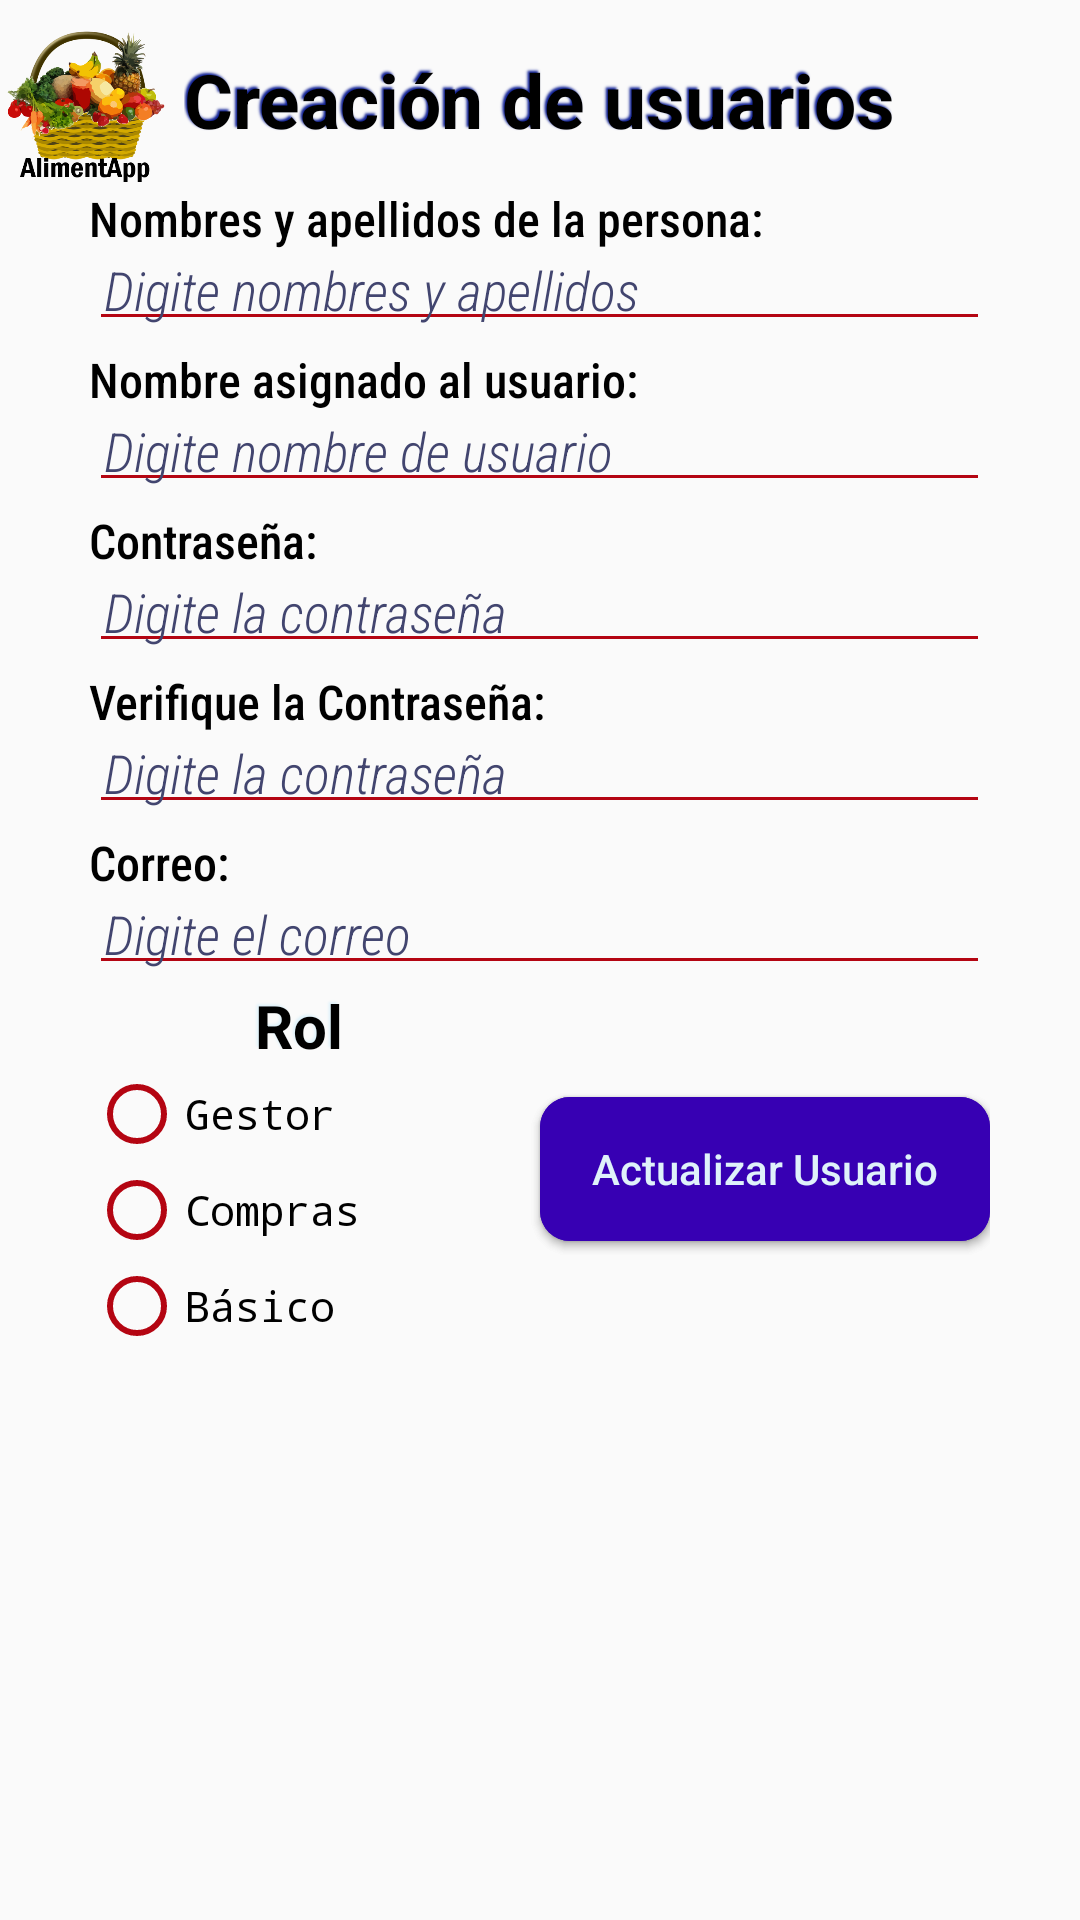

Icon bounding boxes for this 1080px×1920px phone screenshot, format bbox(x1, y1, x2, y2):
iconosuperior: bbox(8, 31, 165, 182)
